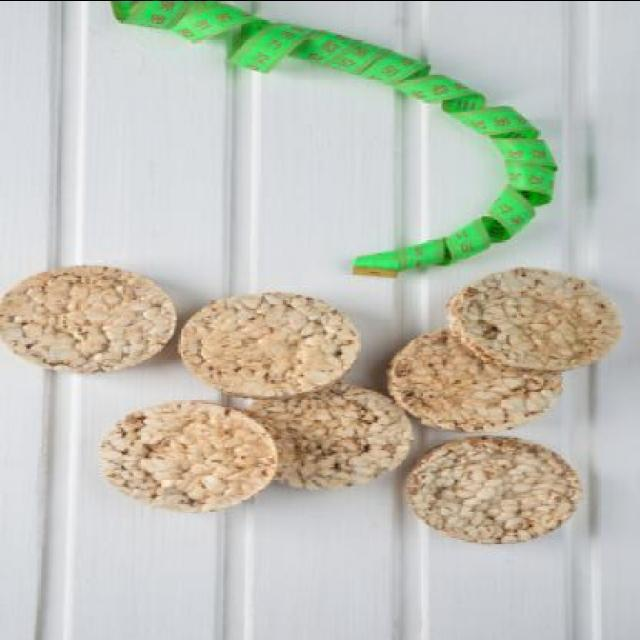Gallette di riso packaged: (442, 262, 628, 376), (100, 398, 274, 518), (1, 263, 181, 375), (397, 434, 574, 543), (240, 384, 414, 493), (186, 290, 362, 396), (386, 322, 557, 431)
